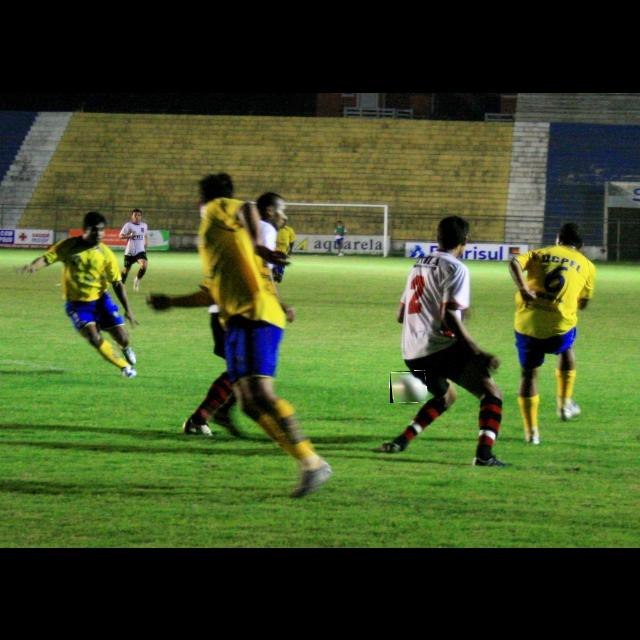Football: (390, 371, 426, 403)
